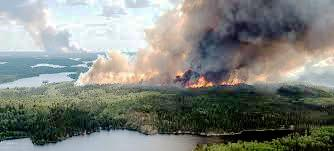fire: (86, 59, 281, 95)
